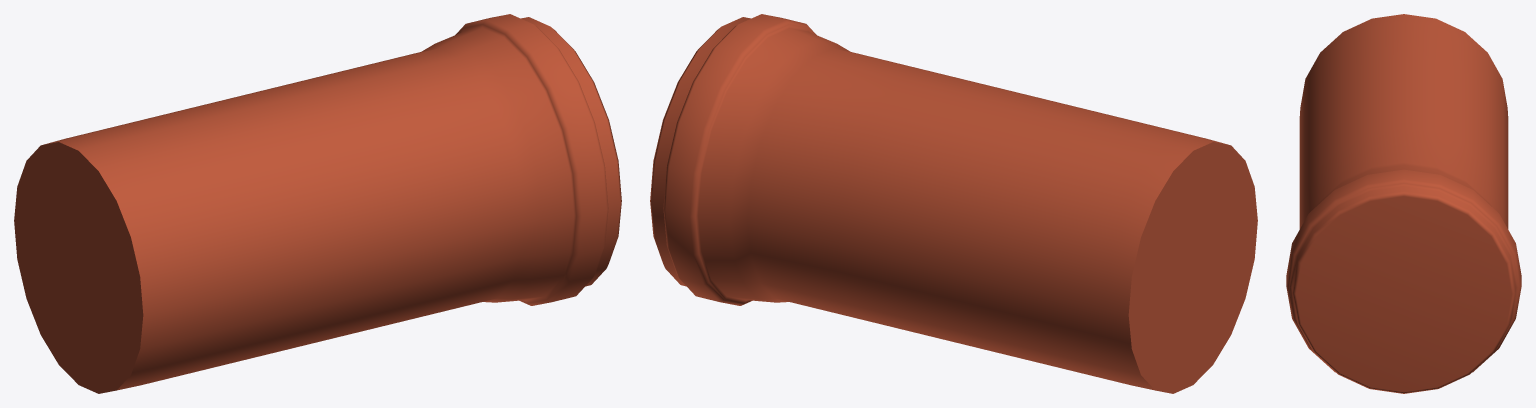
File: SM_Tuyau_B.fbx
3 renders of one model, left to right at view 1: azimuth 30°, elevation 25°; view 2: azimuth 150°, elevation 25°; view 3: azimuth 270°, elevation 25°, orthographic. The views are drawn at different scales.
Visible parts, largest first — view 1: Tuyau_B; view 2: Tuyau_B; view 3: Tuyau_B.
Boxes of the visible parts, x1,y1,x2,y2 form: Tuyau_B: (14, 14, 621, 393); Tuyau_B: (650, 14, 1257, 393); Tuyau_B: (1286, 14, 1521, 393).
Size of the model in its own units: 26.43 by 14.12 by 14.12.
